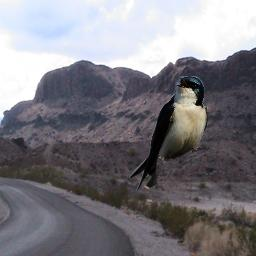Swallow: (129, 76, 208, 193)
